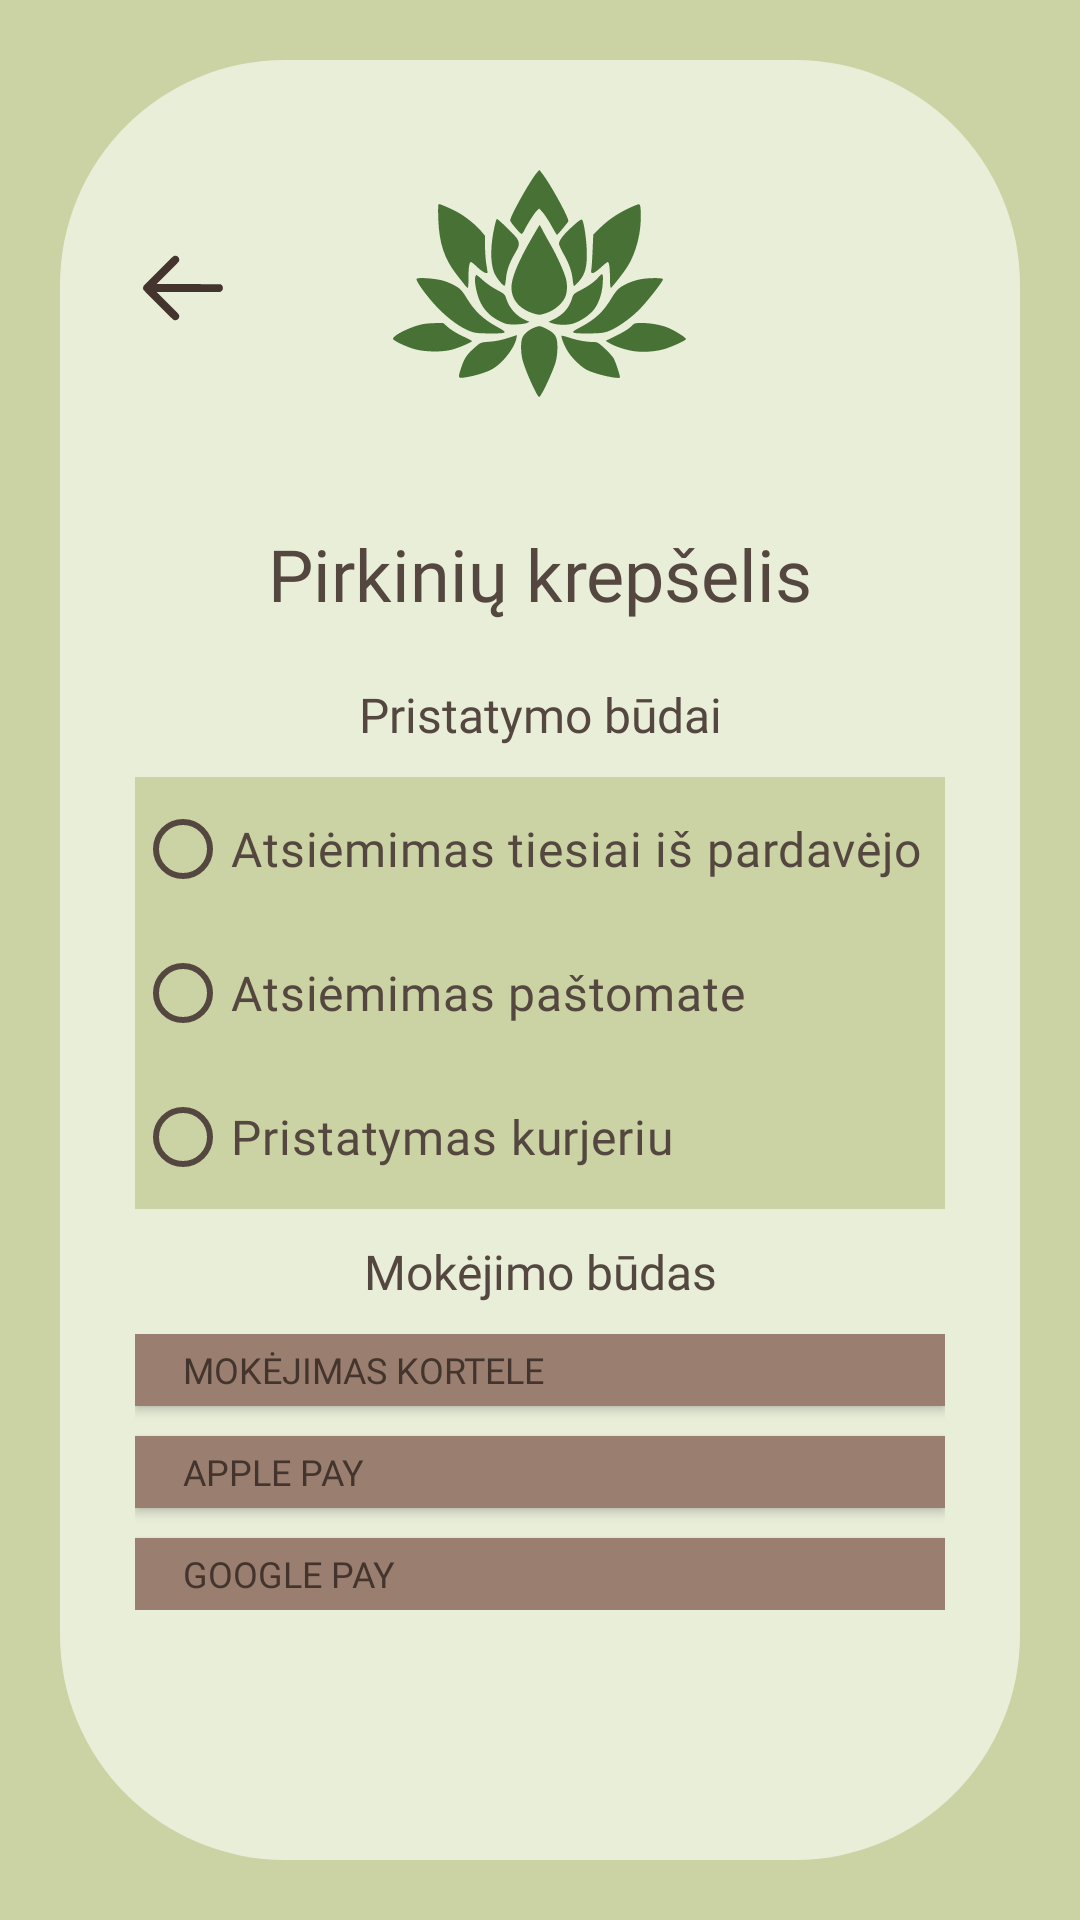

Where icons sit on this 1080px×1920px app screen, as (x1, y1, x2, y2):
Lotus icon: (393, 170, 686, 397)
